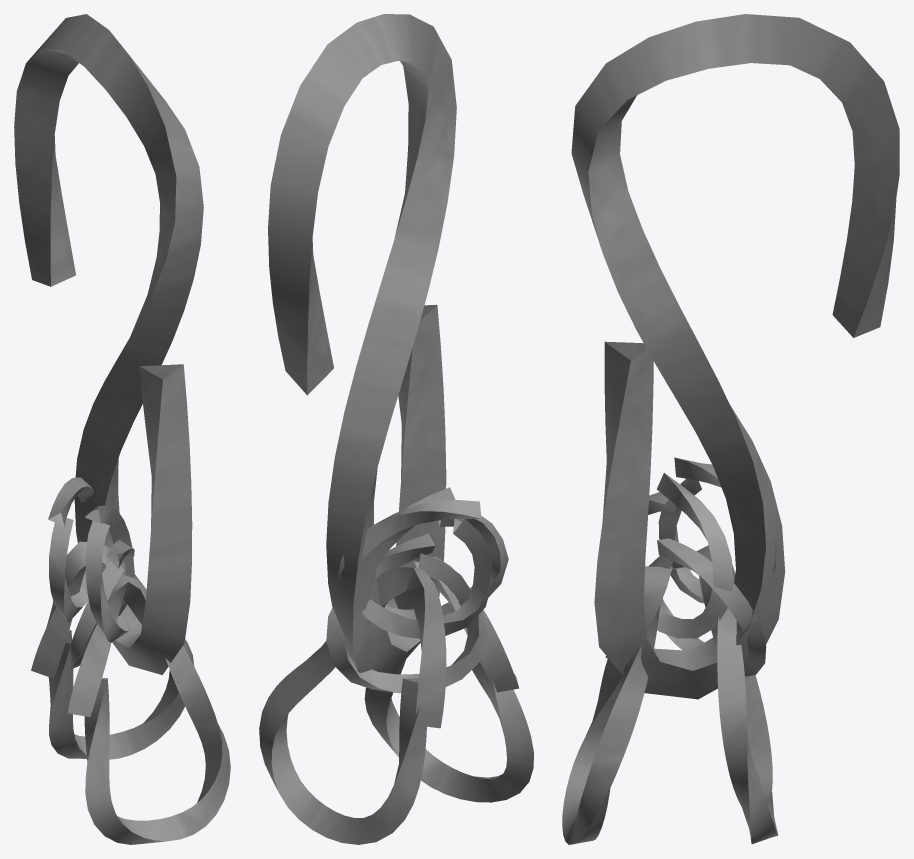
The model's file is chain_hook.glb.
3 views of the same model, side by side, from view 1: azimuth 30°, elevation 25°; view 2: azimuth 150°, elevation 25°; view 3: azimuth 270°, elevation 25° (orthographic). The views are drawn at different scales.
Visible parts, largest first — view 1: defaultMaterial.359, defaultMaterial.253, defaultMaterial.325, defaultMaterial.252, defaultMaterial.324, defaultMaterial.289; view 2: defaultMaterial.359, defaultMaterial.325, defaultMaterial.253, defaultMaterial.324, defaultMaterial.289, defaultMaterial.252; view 3: defaultMaterial.359, defaultMaterial.253, defaultMaterial.325, defaultMaterial.252, defaultMaterial.289, defaultMaterial.324.
Boxes of the visible parts, box(x1,y1,x2,y2) form: defaultMaterial.359: box(14, 14, 203, 674); defaultMaterial.253: box(67, 574, 230, 844); defaultMaterial.325: box(31, 541, 194, 759); defaultMaterial.252: box(84, 505, 136, 642); defaultMaterial.324: box(48, 477, 93, 622); defaultMaterial.289: box(70, 540, 134, 669); defaultMaterial.359: box(268, 14, 456, 673); defaultMaterial.325: box(259, 567, 446, 844); defaultMaterial.253: box(364, 556, 533, 802); defaultMaterial.324: box(337, 500, 491, 638); defaultMaterial.289: box(326, 533, 487, 693); defaultMaterial.252: box(374, 487, 508, 619); defaultMaterial.359: box(571, 14, 899, 699); defaultMaterial.253: box(562, 566, 672, 844); defaultMaterial.325: box(696, 545, 778, 844); defaultMaterial.252: box(648, 473, 733, 638); defaultMaterial.289: box(649, 538, 766, 676); defaultMaterial.324: box(658, 457, 776, 603).
Bounding box in the file's own units: 0.0296 × 0.1168 × 0.0429.
Materials: 2 (2 with a texture image).
